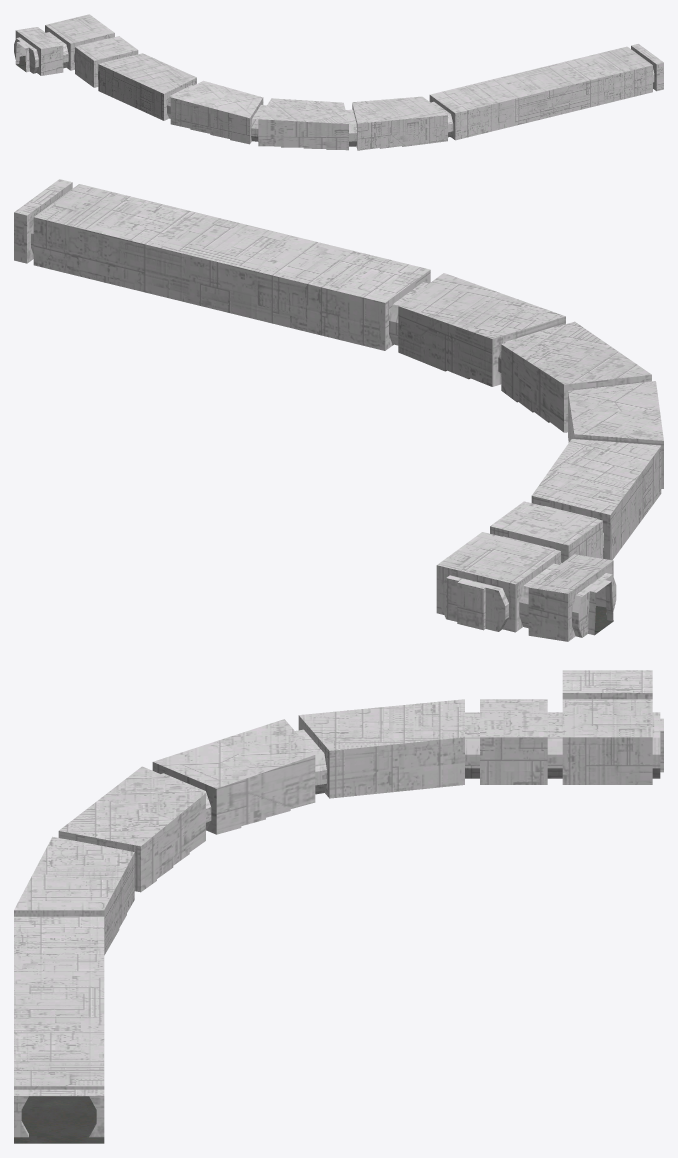
The model's file is thm_spc_star_destroyer_s01_r6_hallway01_mesh_r6.fbx.
3 renders of one model, top to bottom at view 1: azimuth 30°, elevation 25°; view 2: azimuth 150°, elevation 25°; view 3: azimuth 270°, elevation 25°, orthographic. The views are drawn at different scales.
Visible parts, largest first — view 1: mesh_node; view 2: mesh_node; view 3: mesh_node.
Boxes of the visible parts, left/top/right/bottom form: mesh_node: left=14, top=14, right=663, bottom=150; mesh_node: left=14, top=179, right=663, bottom=641; mesh_node: left=14, top=670, right=663, bottom=1143.
Bounding box in the file's own units: 64.25 × 5.25 × 43.25.
Materials: 2 (2 with a texture image).
